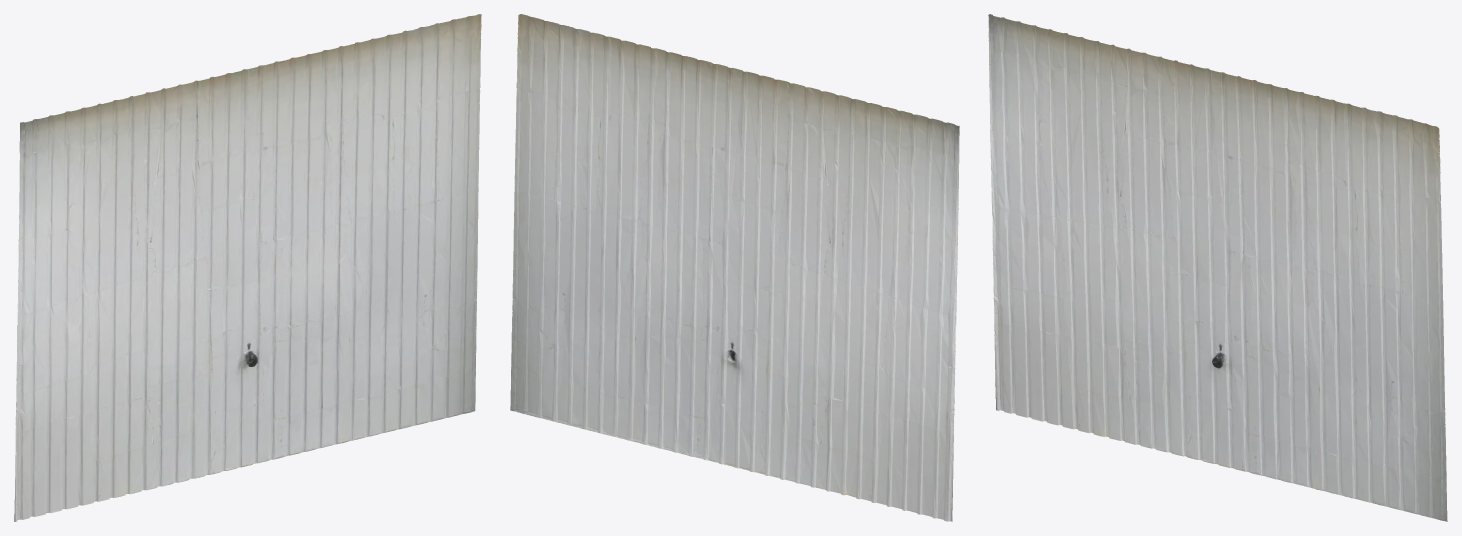
Rendered from g_white.glb.
3 views of the same model, side by side, from view 1: azimuth 30°, elevation 25°; view 2: azimuth 150°, elevation 25°; view 3: azimuth 330°, elevation 25° (orthographic). The views are drawn at different scales.
Parts seen in each view (by area): view 1: Model_material0_0; view 2: Model_material0_0; view 3: Model_material0_0.
Part boxes in pixels (x1=…): Model_material0_0: x1=14, y1=14, x2=481, y2=521; Model_material0_0: x1=510, y1=14, x2=959, y2=521; Model_material0_0: x1=988, y1=14, x2=1447, y2=521.
Size of the model in its own units: 2.61 by 2.2 by 0.1168.
1 material, 1 textured.
